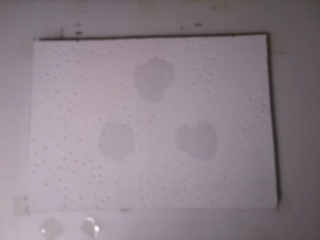Water_detected: (97, 127, 136, 166), (180, 124, 219, 160), (127, 62, 165, 94)
